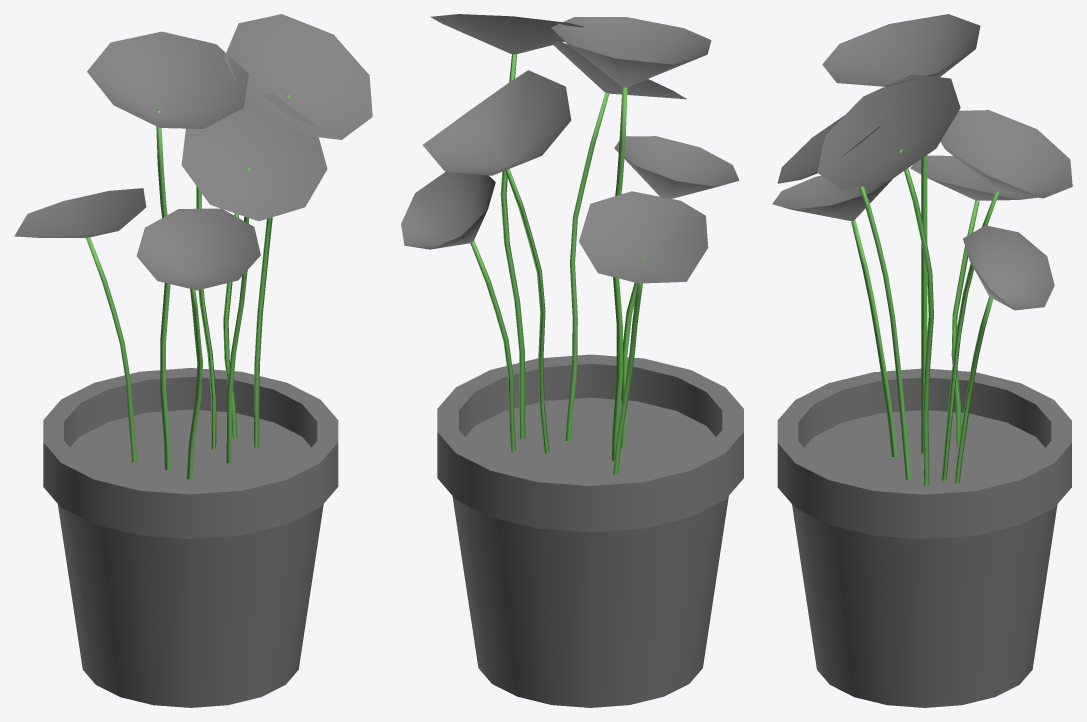
File: SM_flowerpot_04.fbx
3 renders of one model, left to right at view 1: azimuth 30°, elevation 25°; view 2: azimuth 150°, elevation 25°; view 3: azimuth 270°, elevation 25°, orthographic. The views are drawn at different scales.
Visible parts, largest first — view 1: Cylinder099; view 2: Cylinder099; view 3: Cylinder099.
Boxes of the visible parts, x1=… form: Cylinder099: x1=14, y1=14, x2=372, y2=707; Cylinder099: x1=401, y1=14, x2=743, y2=707; Cylinder099: x1=772, y1=14, x2=1072, y2=707.
Bounding box in the file's own units: 18.33 × 36.36 × 16.16.
